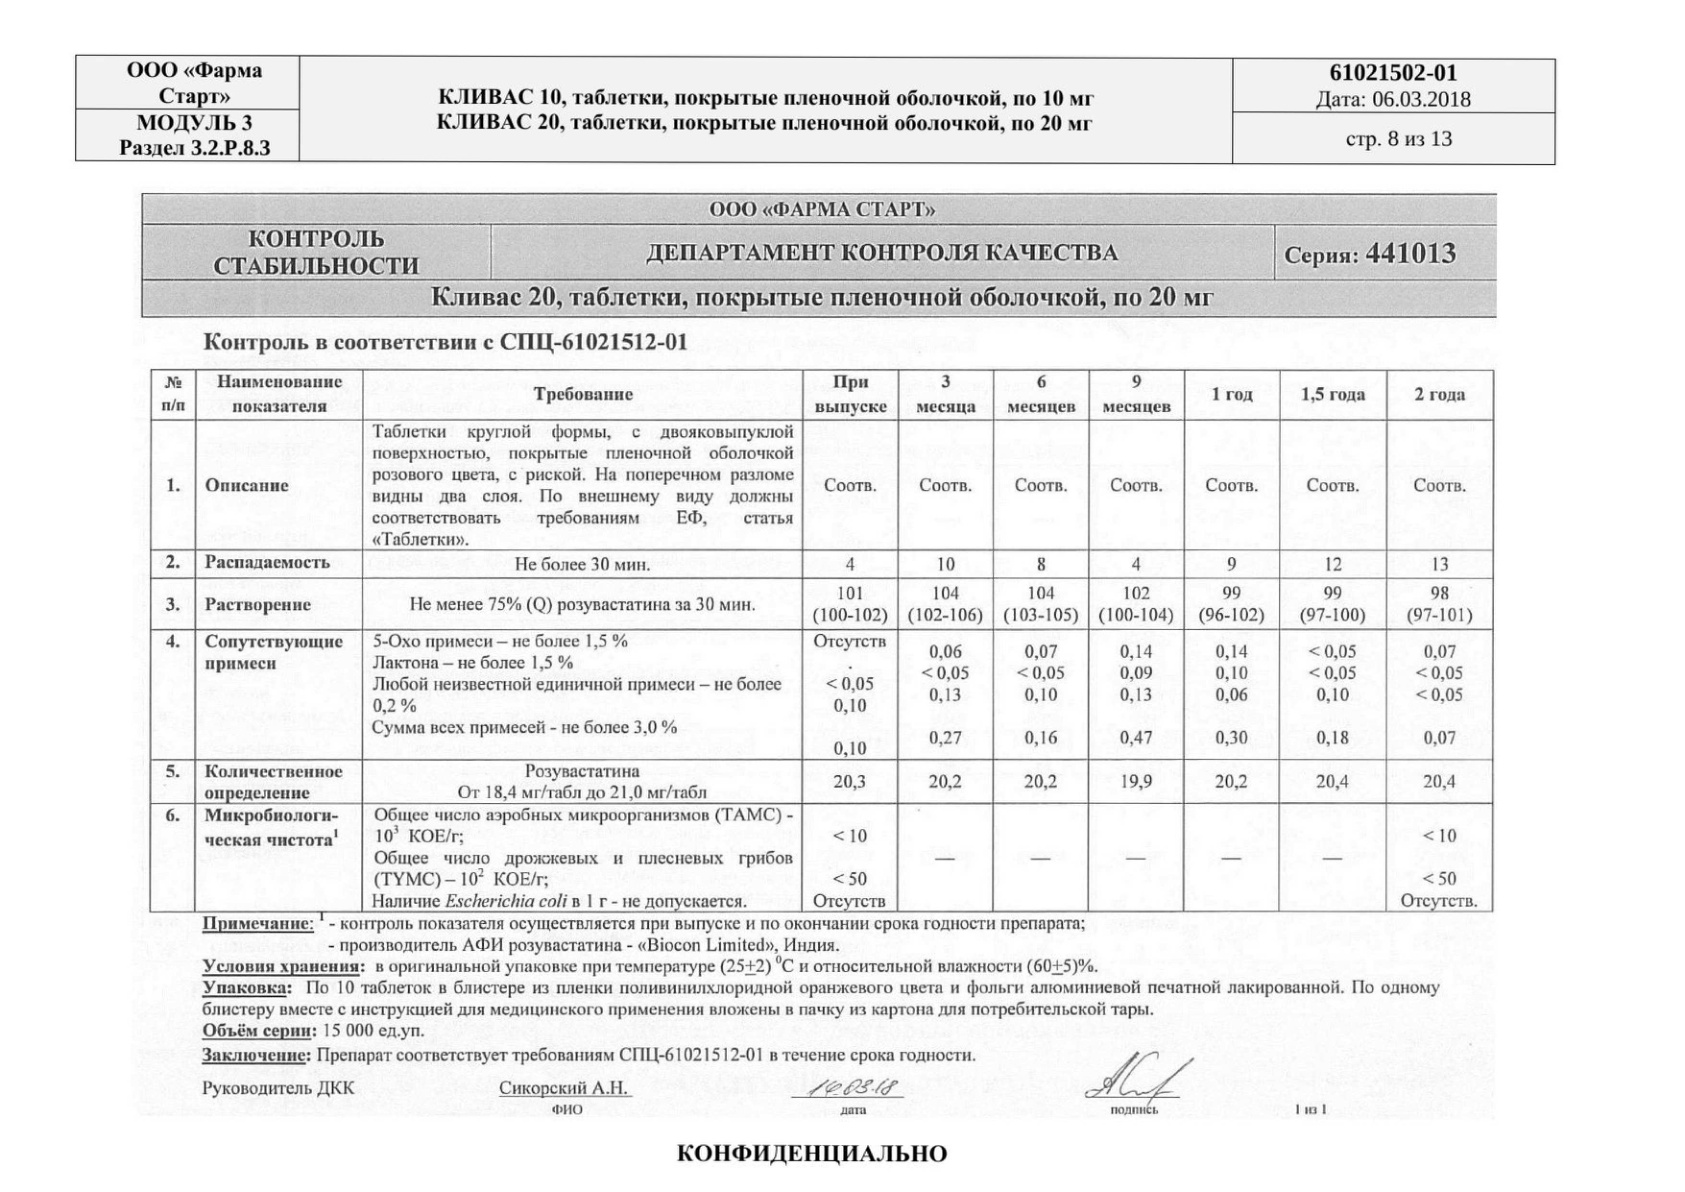full_lined: (148, 366, 1494, 915)
merged_cells: (139, 192, 1498, 319), (74, 53, 1557, 166)
